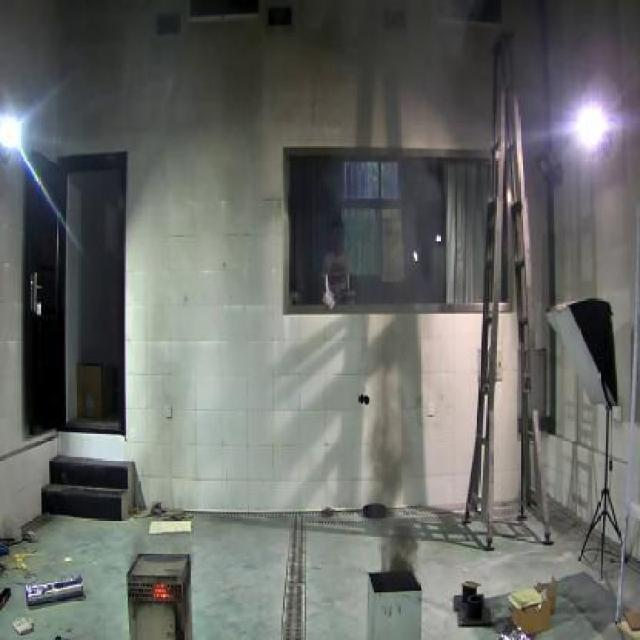fire: (362, 408, 424, 572)
